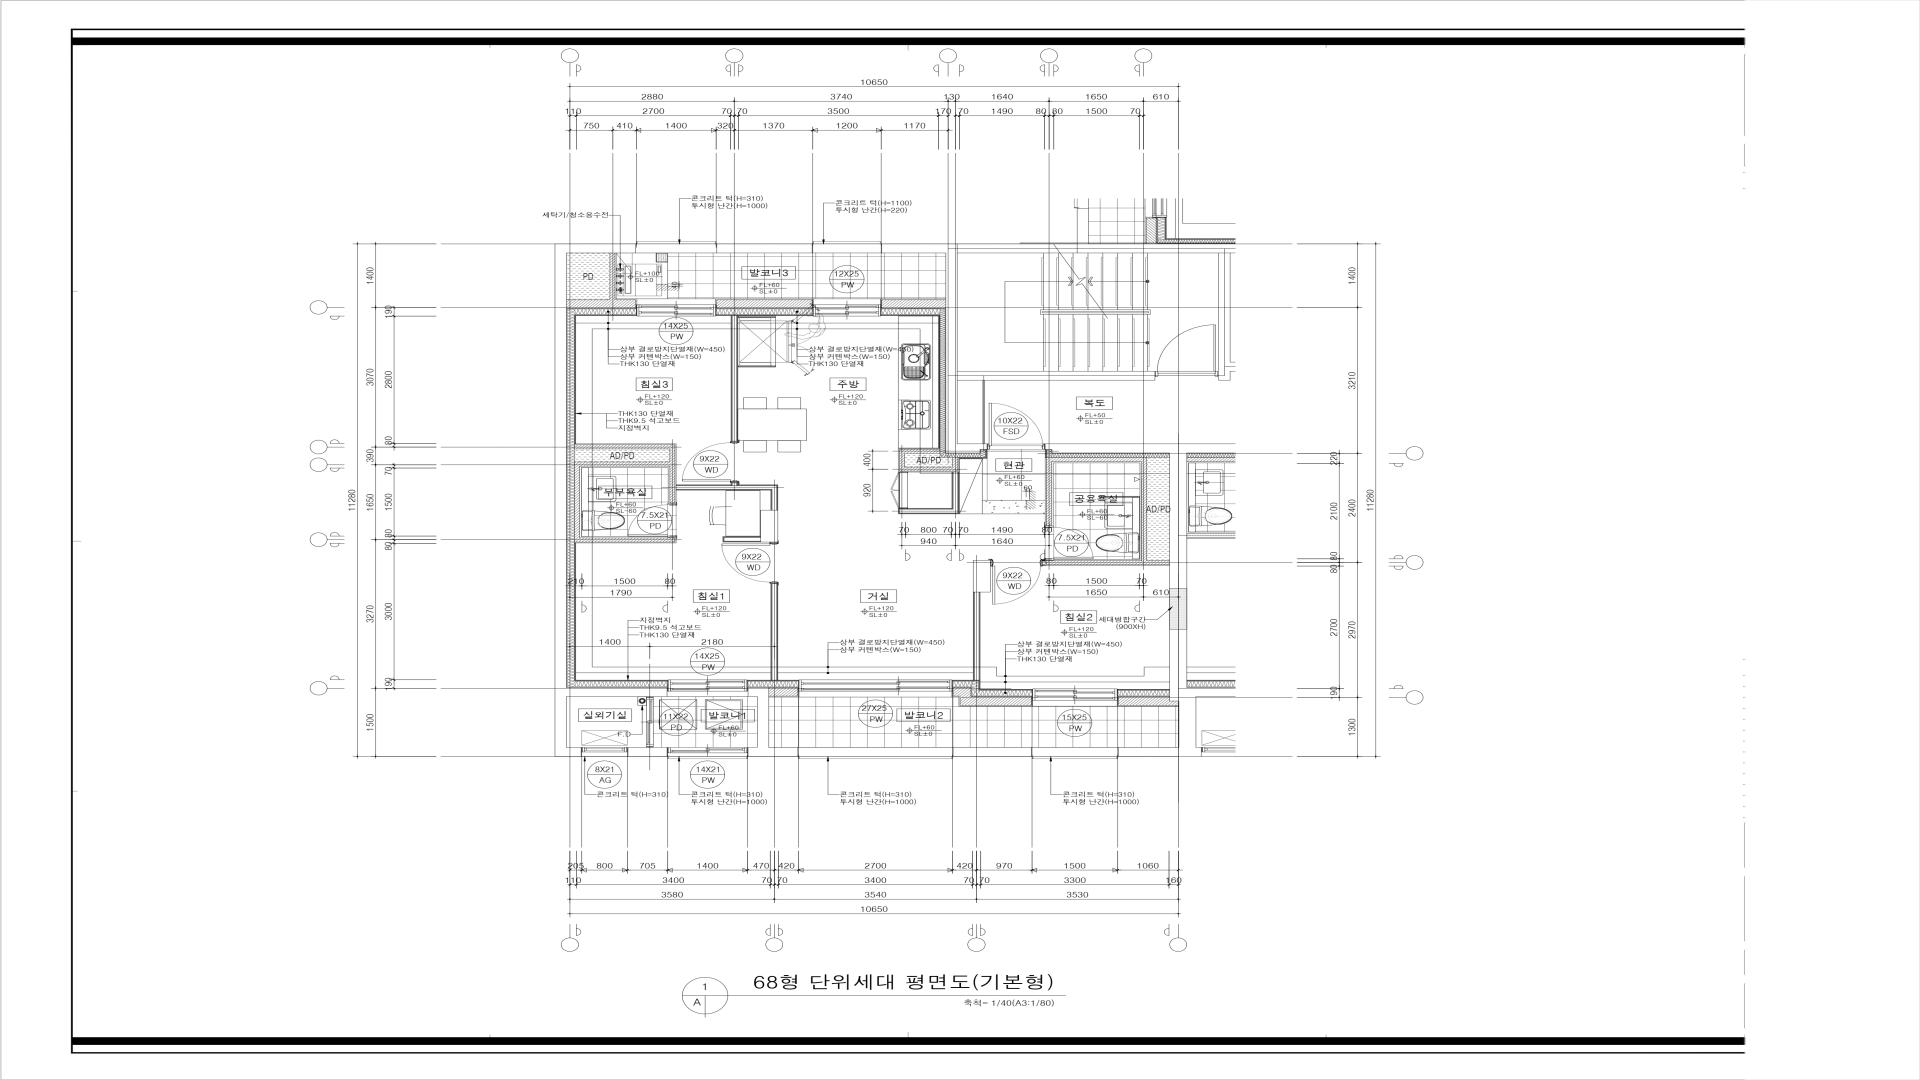door: (1155, 322, 1218, 381), (986, 402, 1046, 450), (990, 560, 1046, 605), (720, 542, 778, 583), (682, 440, 737, 483), (628, 502, 675, 538), (1046, 526, 1093, 560), (890, 471, 909, 509)
wall: (555, 244, 667, 757), (1046, 443, 1236, 629), (748, 687, 1118, 757), (1117, 629, 1236, 757), (1046, 458, 1147, 560), (945, 253, 988, 452), (575, 462, 675, 542), (575, 444, 675, 504), (566, 253, 636, 309), (566, 244, 948, 253), (676, 483, 777, 510), (948, 244, 1236, 253), (899, 471, 959, 513), (1218, 253, 1236, 381), (957, 371, 1155, 381), (952, 688, 1033, 707), (899, 450, 957, 471), (716, 299, 812, 309), (770, 583, 778, 680), (732, 315, 737, 442), (1117, 696, 1178, 707), (882, 299, 945, 309), (973, 592, 980, 680), (973, 560, 990, 592), (761, 510, 778, 542), (1046, 560, 1170, 564), (628, 748, 667, 757), (769, 687, 799, 698), (1146, 218, 1156, 244), (1187, 458, 1236, 462), (724, 537, 761, 541)
window: (799, 679, 952, 691), (1033, 688, 1117, 700), (667, 748, 748, 760), (636, 305, 716, 316), (667, 679, 748, 691), (812, 305, 882, 316), (798, 757, 952, 760), (637, 241, 716, 244), (582, 748, 628, 752), (812, 241, 881, 244), (1033, 757, 1118, 758)
